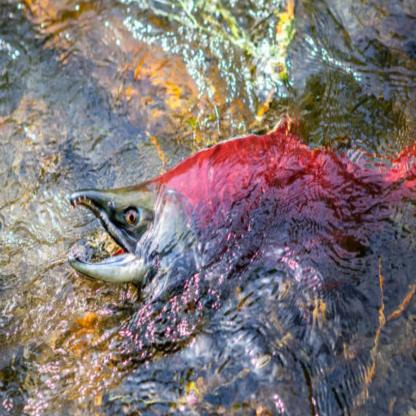sockeye: (76, 119, 407, 298)
